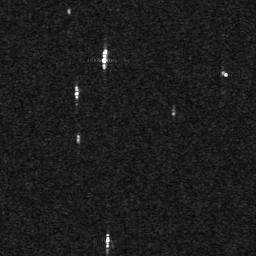ship: (100, 47, 109, 71), (73, 85, 80, 98), (105, 233, 110, 249)
